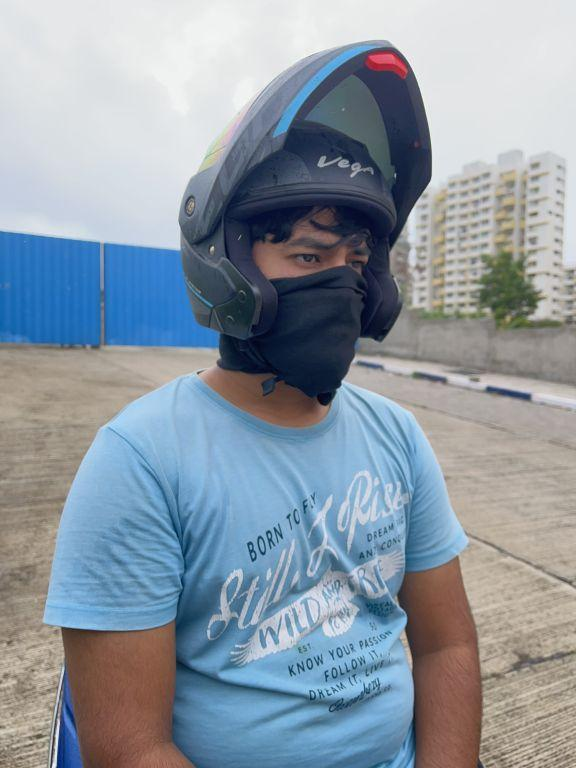helmet: (170, 27, 442, 407)
